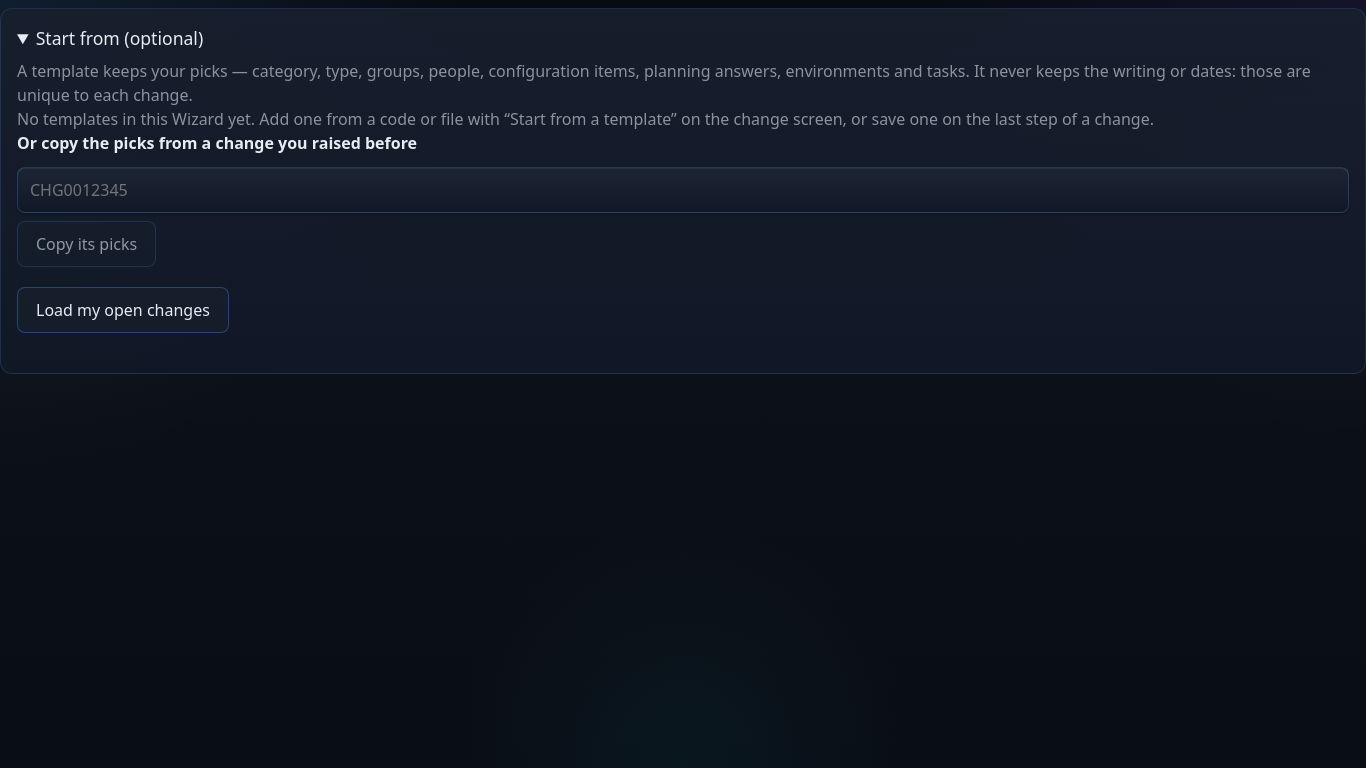
Test: StartFromCard › copies the picks from a change raised before, leaving its writing out
Type "chg0001234" into the field labelled "Or copy the picks from a change you raised before" at (683, 190), box x1=17 y1=167 x2=1349 y2=213
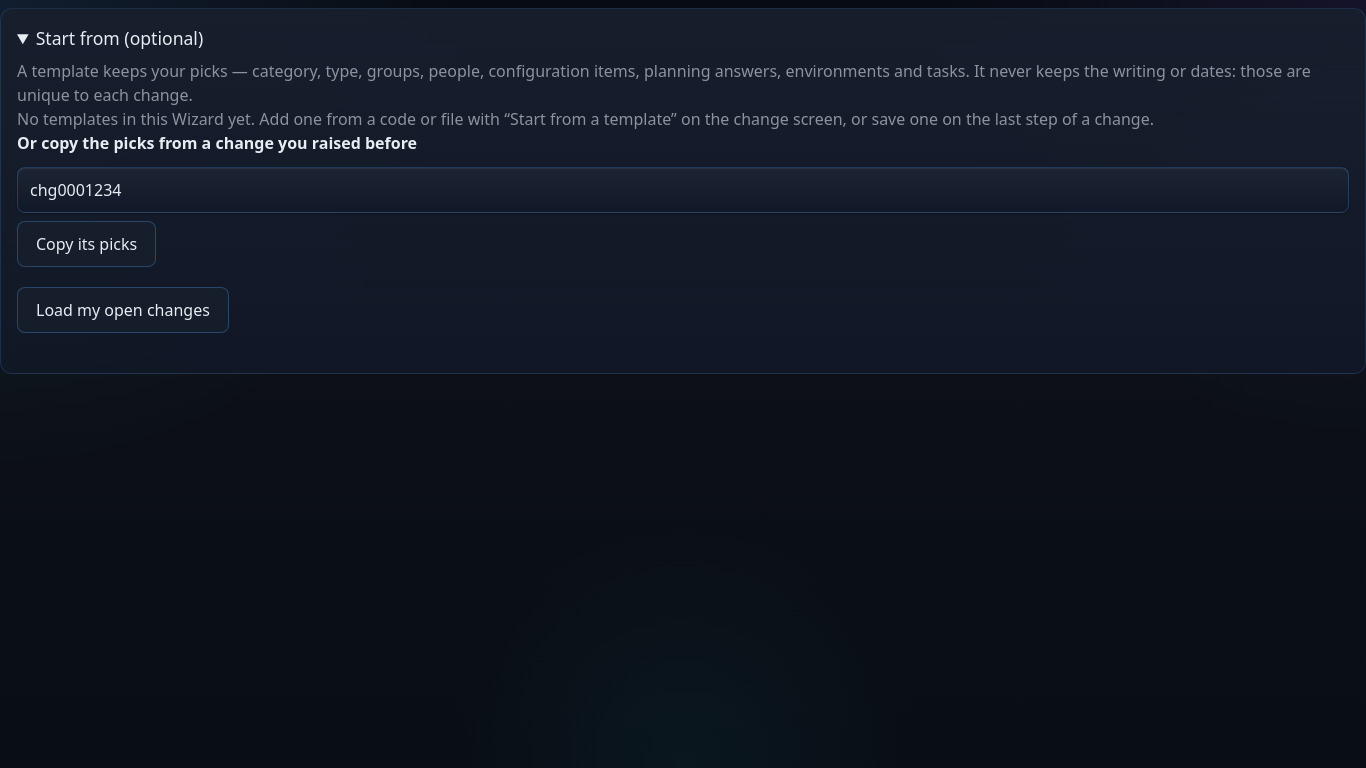
Click the button "Copy its picks" at (87, 244), box x1=17 y1=221 x2=156 y2=267
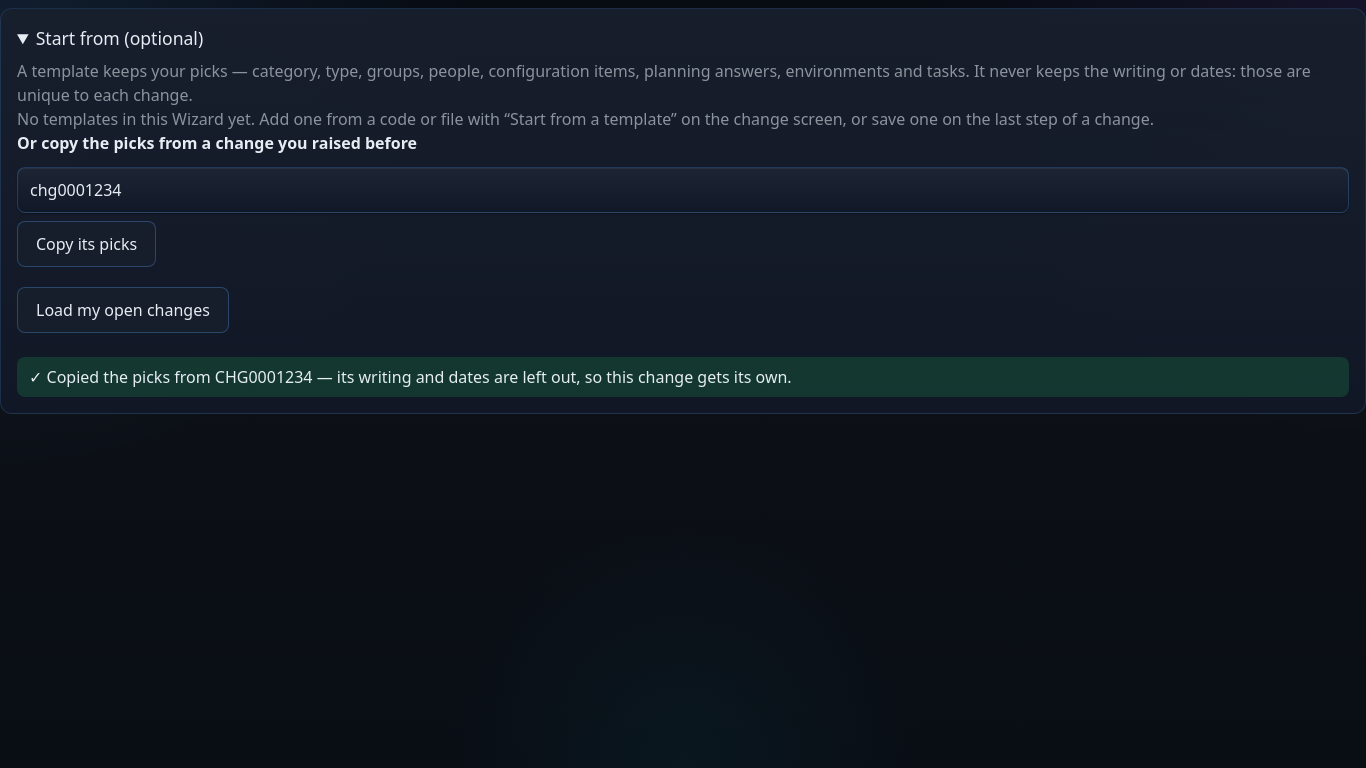
Expected: the text "✓ Copied the picks from CHG0001234" is shown, x1=29 y1=366 x2=792 y2=388
